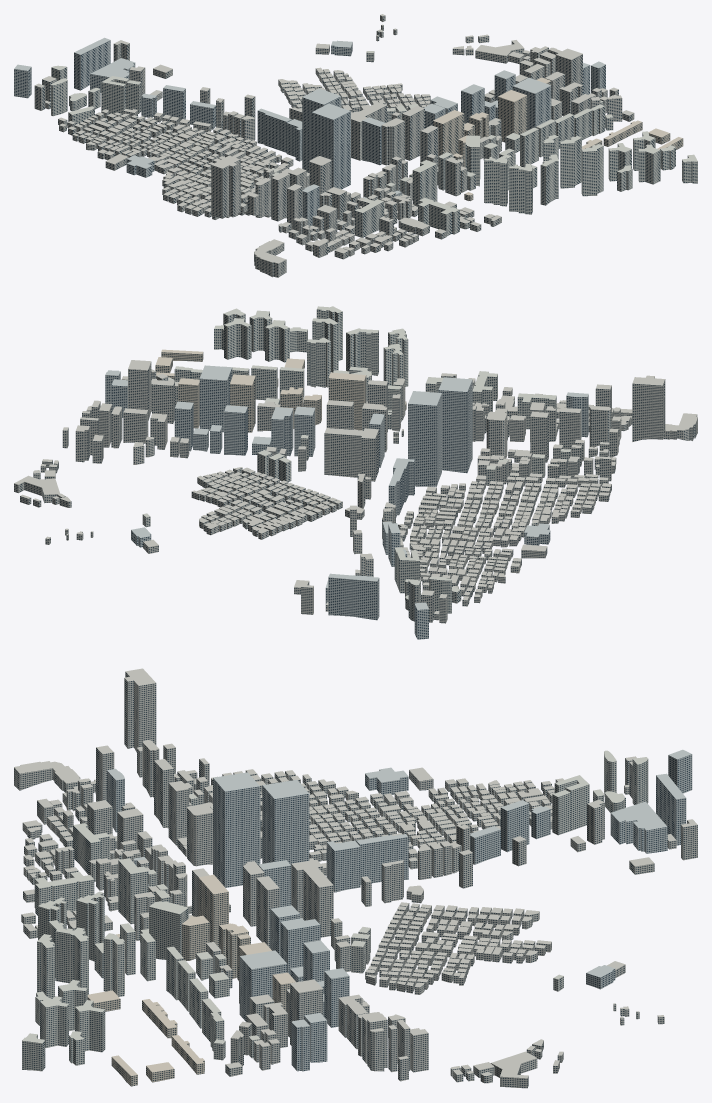
File: city_2_4.glb
3 renders of one model, top to bottom at view 1: azimuth 30°, elevation 25°; view 2: azimuth 150°, elevation 25°; view 3: azimuth 270°, elevation 25°, orthographic. The views are drawn at different scales.
Size of the model in its own units: 1054 by 217 by 1023.
4 materials, 4 textured.
